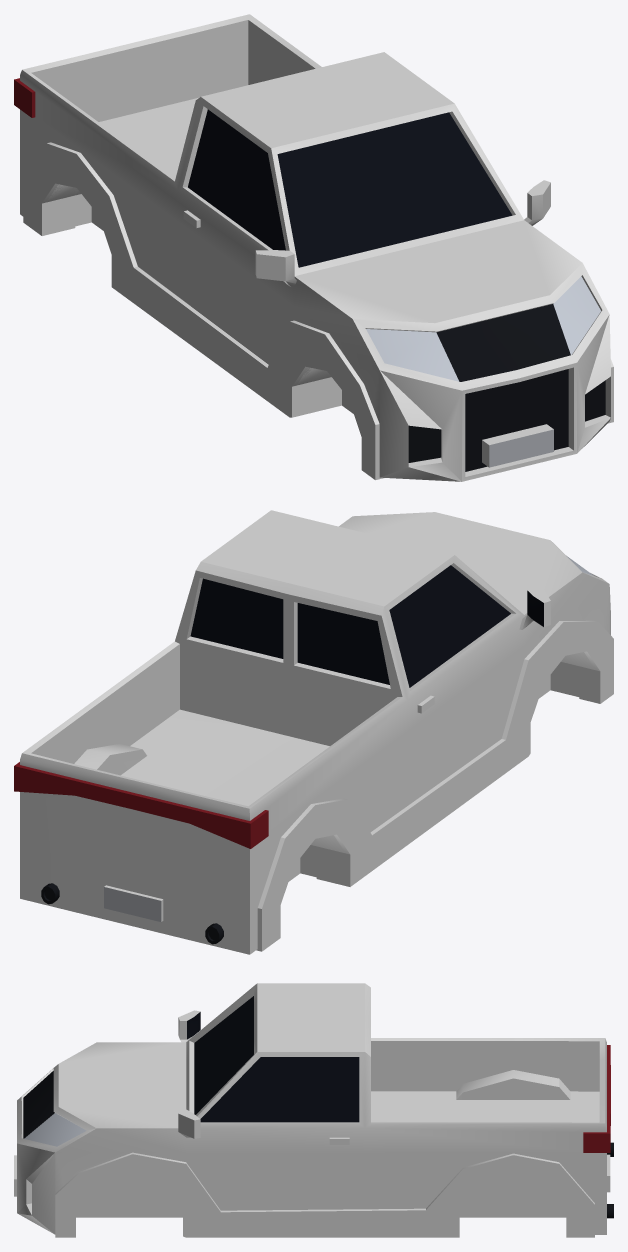
Rendered from compact.glb.
The picture shows the model from 3 angles, top to bottom: view 1: azimuth 30°, elevation 25°; view 2: azimuth 150°, elevation 25°; view 3: azimuth 270°, elevation 25°; orthographic projection. The views are drawn at different scales.
Parts seen in each view (by area): view 1: compact; view 2: compact; view 3: compact.
Boxes of the visible parts, x1,y1,x2,y2 form: compact: (14, 14, 613, 481); compact: (14, 510, 613, 954); compact: (14, 983, 613, 1237).
Bounding box in the file's own units: 1.71 × 1.27 × 3.94.
